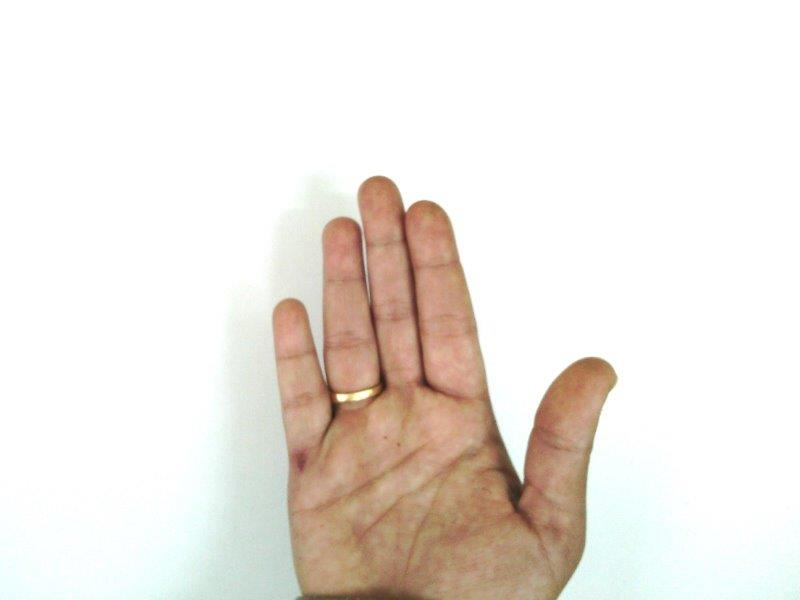hand: (272, 176, 618, 599)
